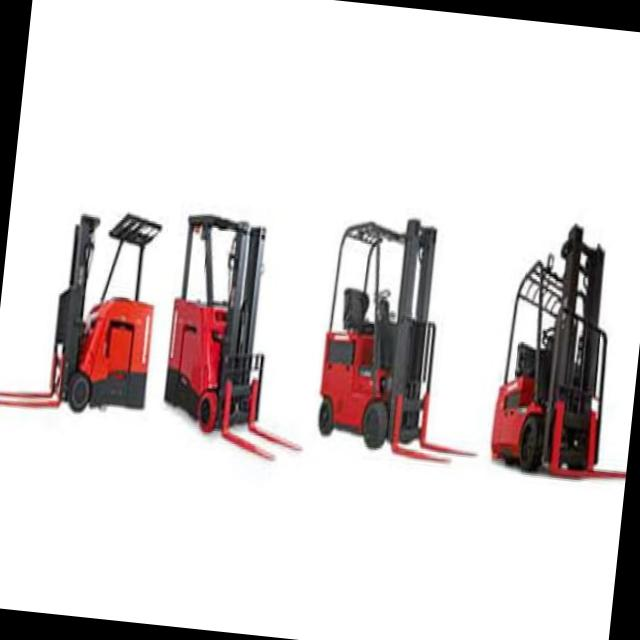forklift: (484, 206, 632, 492), (309, 195, 454, 460), (154, 195, 292, 458), (40, 192, 172, 428)
